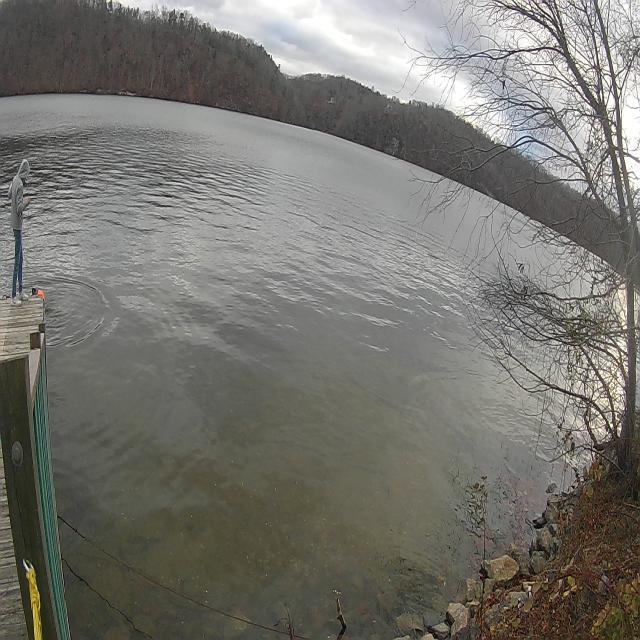Buoy: (37, 288, 47, 308)
